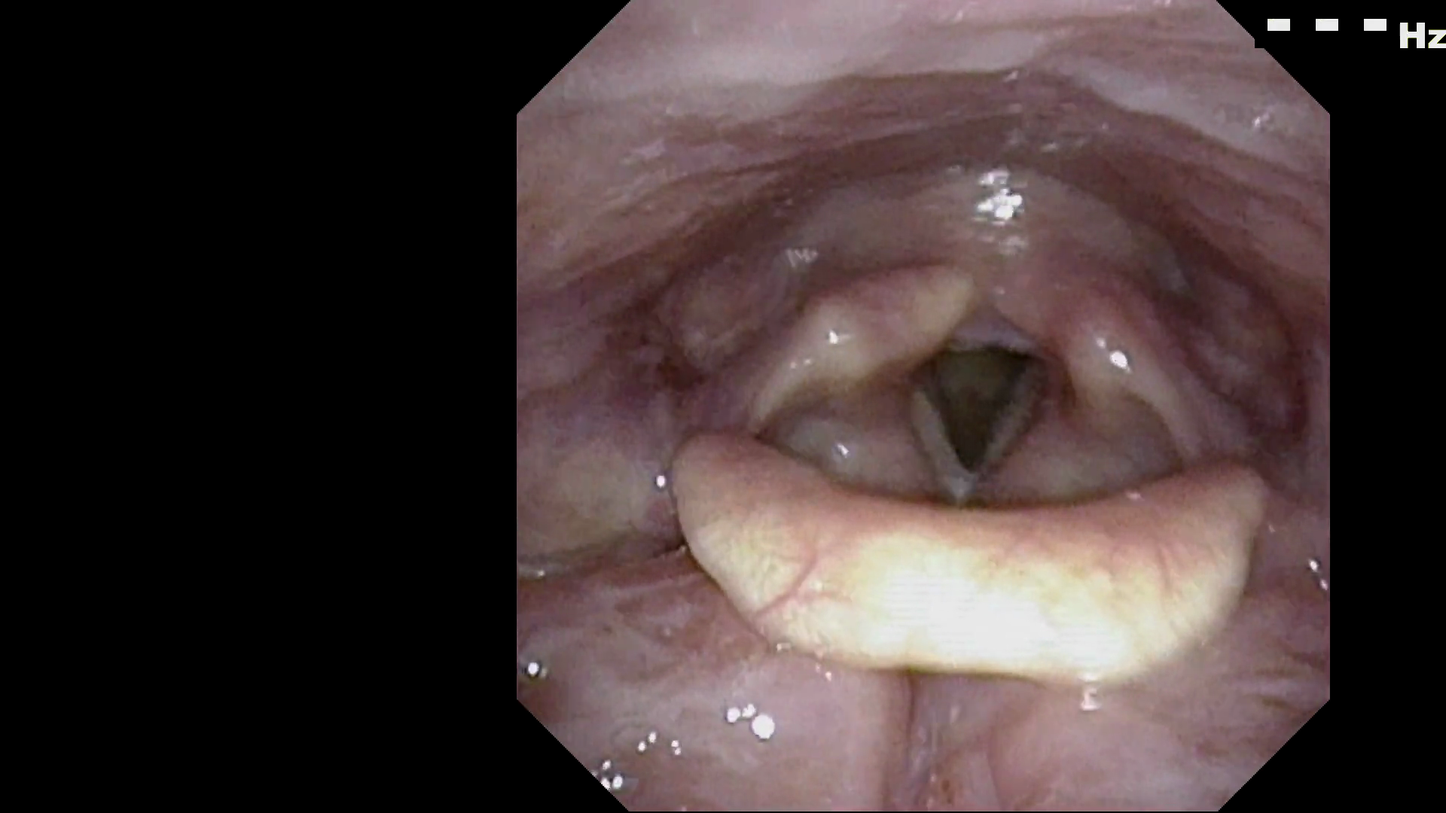epiglottis: (659, 419, 1276, 692)
trachea: (893, 316, 1059, 489)
